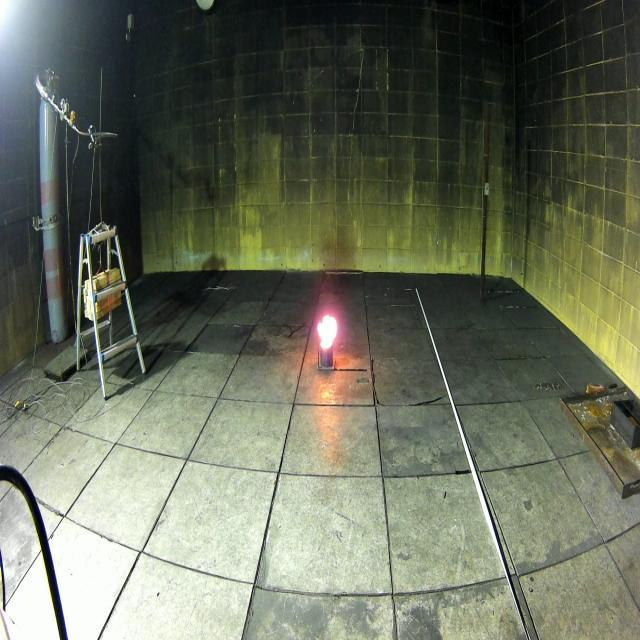Fire: (317, 316, 337, 350)
